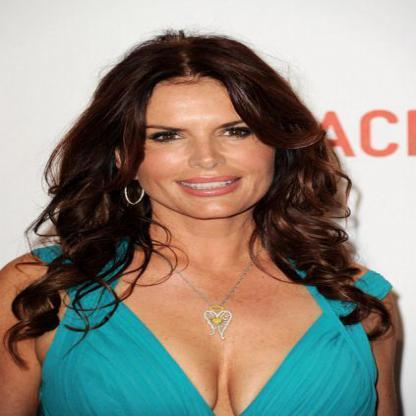long-hair: (24, 221, 365, 286)
